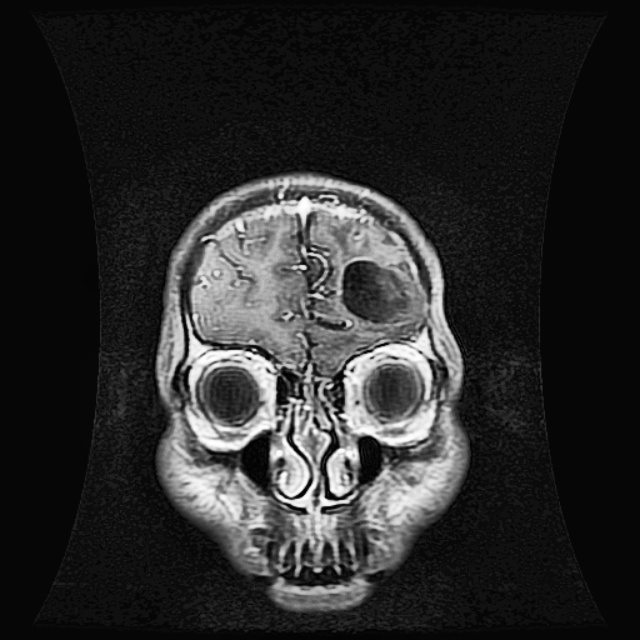Meningioma: (343, 258, 423, 323)
